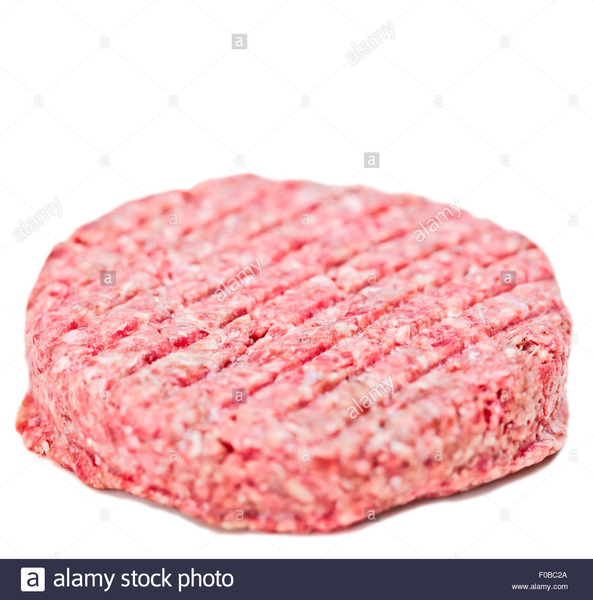burger_raw: (20, 174, 565, 532)
